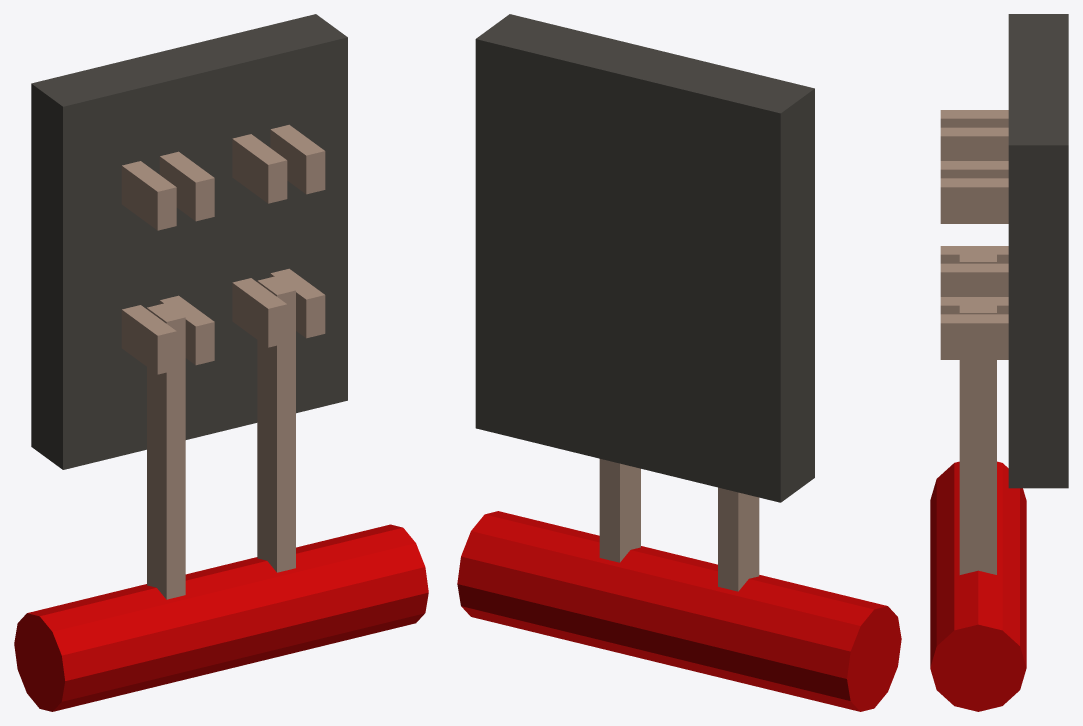
Rendered from PowerSwitch.fbx.
3 views of the same model, side by side, from view 1: azimuth 30°, elevation 25°; view 2: azimuth 150°, elevation 25°; view 3: azimuth 270°, elevation 25° (orthographic). The views are drawn at different scales.
Parts seen in each view (by area): view 1: PowerSwitch, PowerSwitchHandle, PowerSwitch.001, PowerSwitchLatch.002, PowerSwitchLatch.001; view 2: PowerSwitch, PowerSwitchHandle, PowerSwitchLatch.001, PowerSwitchLatch.002; view 3: PowerSwitch, PowerSwitchHandle, PowerSwitch.001, PowerSwitchLatch.001, PowerSwitchLatch.002.
Part boxes in pixels (x1,y1,x2,y2): PowerSwitch: (31, 14, 347, 469); PowerSwitchHandle: (14, 524, 428, 711); PowerSwitch.001: (121, 124, 325, 374); PowerSwitchLatch.002: (147, 303, 185, 599); PowerSwitchLatch.001: (257, 276, 295, 572); PowerSwitch: (475, 14, 814, 502); PowerSwitchHandle: (457, 511, 901, 711); PowerSwitchLatch.001: (599, 459, 640, 562); PowerSwitchLatch.002: (718, 487, 759, 591); PowerSwitch: (1008, 14, 1068, 488); PowerSwitchHandle: (930, 461, 1026, 711); PowerSwitch.001: (940, 110, 1008, 359); PowerSwitchLatch.001: (959, 304, 996, 574); PowerSwitchLatch.002: (959, 253, 996, 263).
Bounding box in the file's own units: 0.6581 × 1 × 0.23.
1 material, 1 textured.
